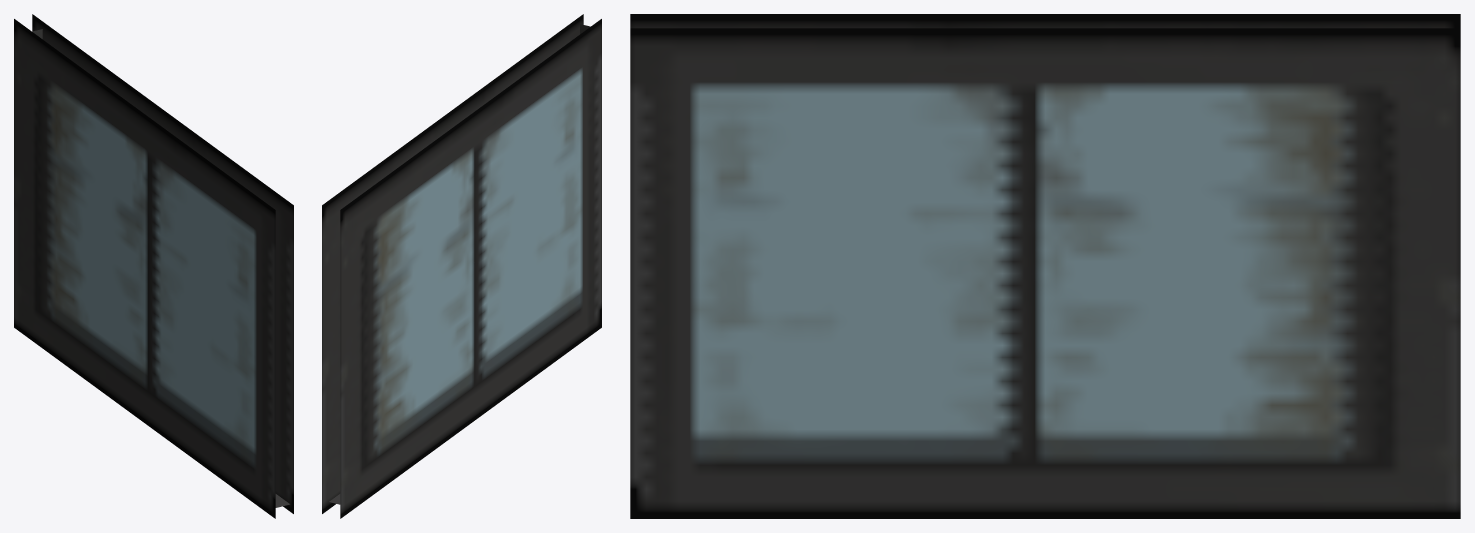
Rendered from pz_native_fixtures_windows_01_32_frame.obj.
3 renders of one model, left to right at view 1: azimuth 30°, elevation 25°; view 2: azimuth 150°, elevation 25°; view 3: azimuth 270°, elevation 25°, orthographic. The views are drawn at different scales.
Parts seen in each view (by area): view 1: pz_native_fixtures_windows_01_32_frame; view 2: pz_native_fixtures_windows_01_32_frame; view 3: pz_native_fixtures_windows_01_32_frame.
Boxes of the visible parts, box(x1,y1,x2,y2) form: pz_native_fixtures_windows_01_32_frame: box(14, 14, 293, 518); pz_native_fixtures_windows_01_32_frame: box(322, 14, 601, 518); pz_native_fixtures_windows_01_32_frame: box(630, 14, 1460, 518).
Bounding box in the file's own units: 0.04 × 0.6406 × 0.9823.
1 material, 1 textured.
